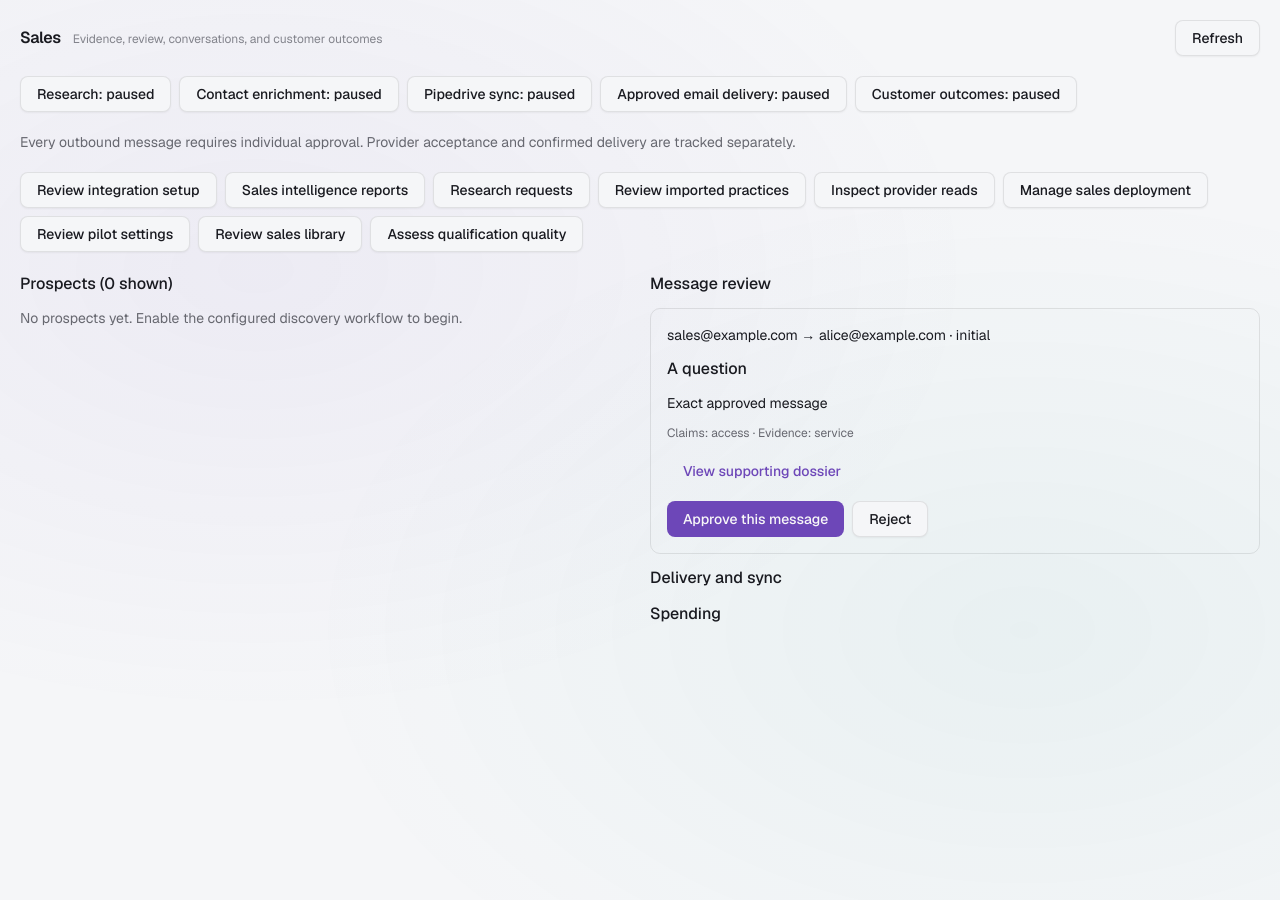
Test: Sales review › reports a failed approval without pretending it succeeded
Click the button "Approve this message" at coordinates (756, 519), box [667,501,844,537]
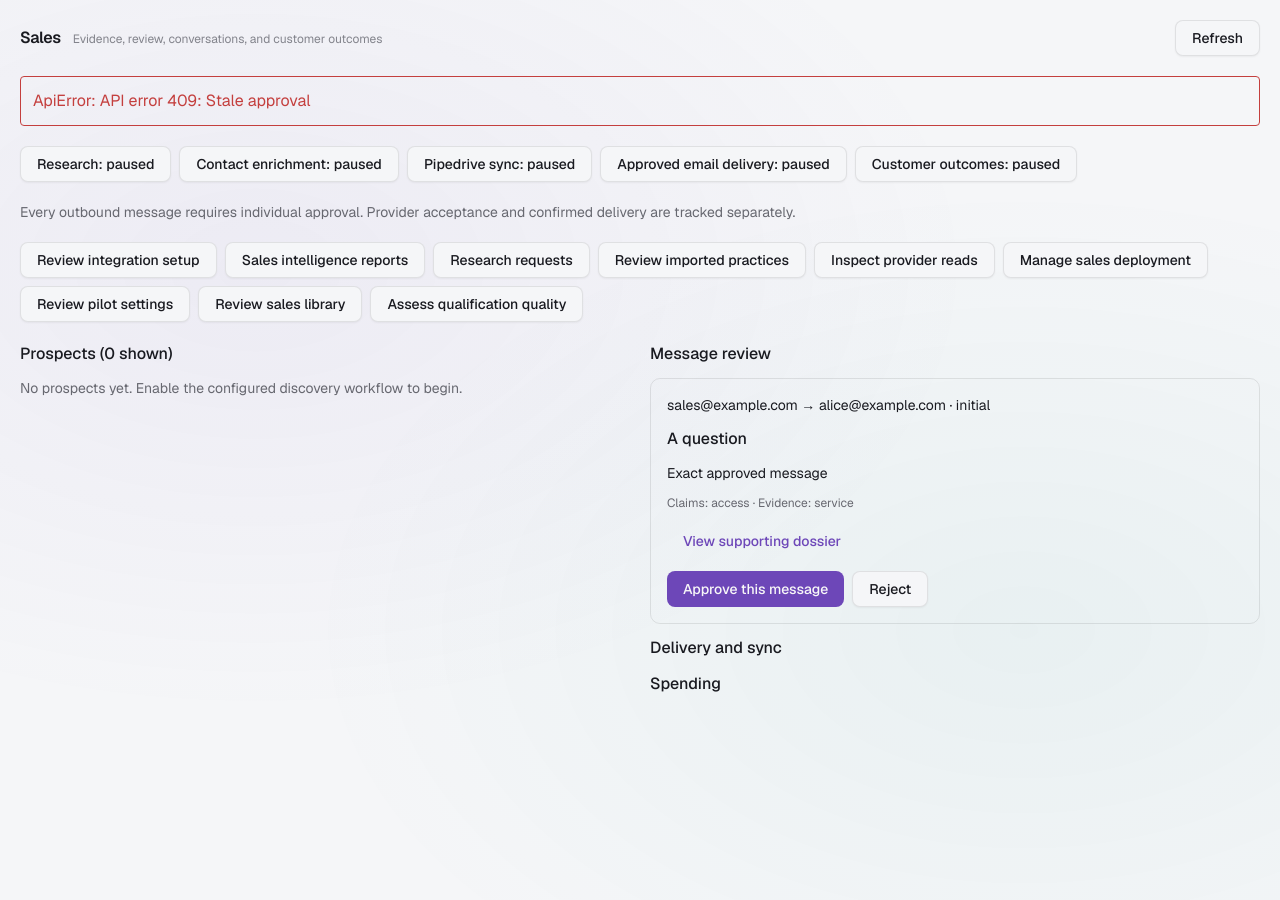
Expected: the text "Exact approved message" is shown, [667,464,828,482]
Now the message shows "409", box [33,90,310,111]
